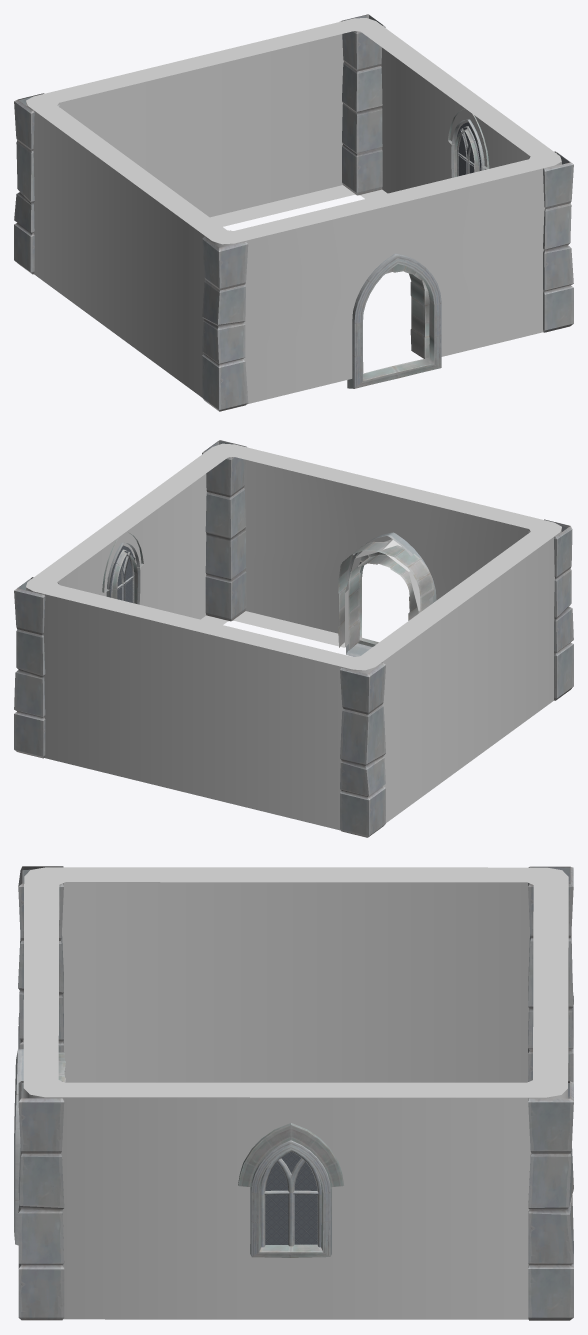
The model's file is SM_TowerE_Mid1Door_Window.fbx.
The picture shows the model from 3 angles, top to bottom: view 1: azimuth 30°, elevation 25°; view 2: azimuth 150°, elevation 25°; view 3: azimuth 270°, elevation 25°; orthographic projection. The views are drawn at different scales.
Visible parts, largest first — view 1: SM_TowerE_Mid1Door_Window_LOD0; view 2: SM_TowerE_Mid1Door_Window_LOD0; view 3: SM_TowerE_Mid1Door_Window_LOD0.
Part boxes in pixels (box(x1,y1,x2,y2)): SM_TowerE_Mid1Door_Window_LOD0: box(14, 14, 573, 411); SM_TowerE_Mid1Door_Window_LOD0: box(14, 440, 573, 837); SM_TowerE_Mid1Door_Window_LOD0: box(14, 866, 573, 1320).
Size of what is drawn, in the model's own units: 10.29 by 4.9 by 10.28.
